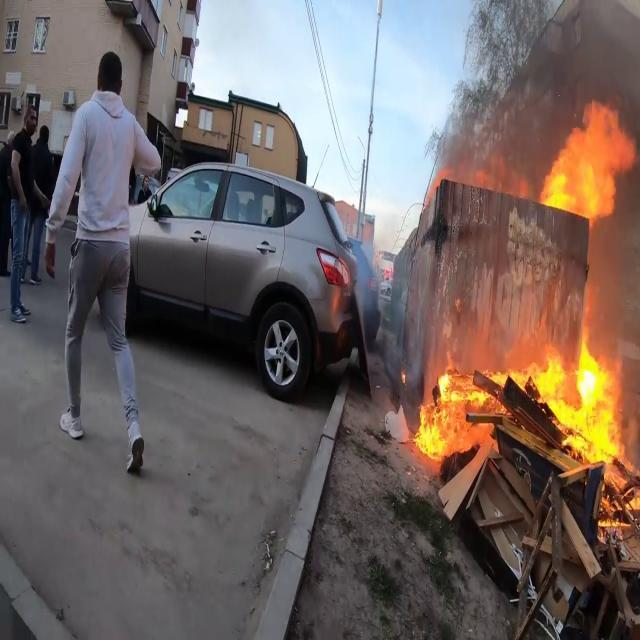Fire: (412, 326, 636, 481), (537, 95, 638, 219)
